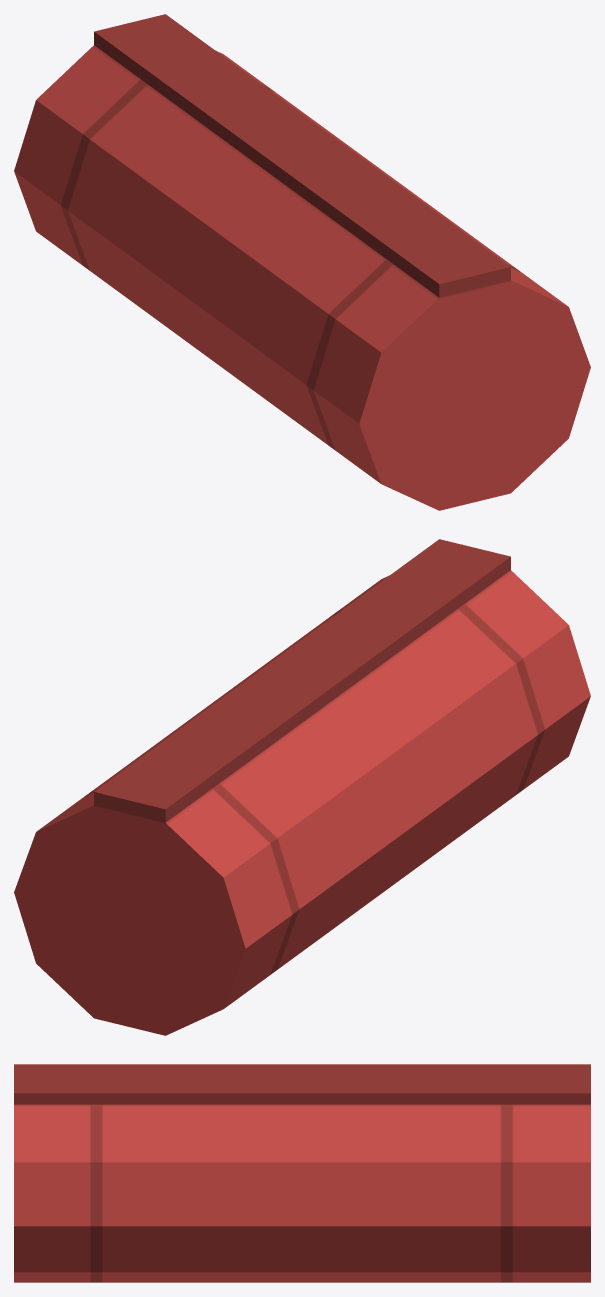
The model's file is Goods_Tank.glb.
The picture shows the model from 3 angles, top to bottom: view 1: azimuth 30°, elevation 25°; view 2: azimuth 150°, elevation 25°; view 3: azimuth 270°, elevation 25°; orthographic projection. The views are drawn at different scales.
Visible parts, largest first — view 1: Object_177.002; view 2: Object_177.002; view 3: Object_177.002.
Boxes of the visible parts, x1=… form: Object_177.002: x1=14, y1=14, x2=590, y2=510; Object_177.002: x1=14, y1=539, x2=590, y2=1035; Object_177.002: x1=14, y1=1064, x2=590, y2=1282.
Size of the model in its own units: 3.46 by 3.23 by 8.92.
Materials: 1 (1 with a texture image).
